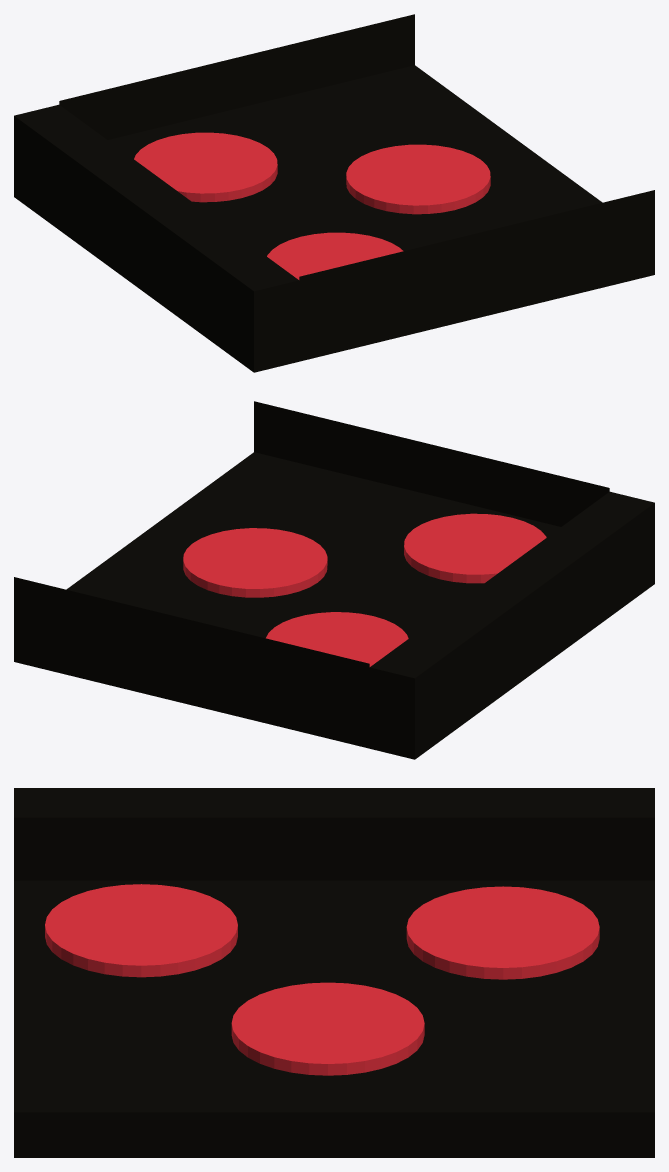
File: candle podium.fbx
3 renders of one model, top to bottom at view 1: azimuth 30°, elevation 25°; view 2: azimuth 150°, elevation 25°; view 3: azimuth 270°, elevation 25°, orthographic. The views are drawn at different scales.
Parts seen in each view (by area): view 1: Cube, Cylinder.001; view 2: Cube, Cylinder.001; view 3: Cube, Cylinder.001.
Part boxes in pixels (<box>): Cube: <box>14,14,654,372</box>; Cylinder.001: <box>134,132,490,279</box>; Cube: <box>14,401,654,759</box>; Cylinder.001: <box>183,513,546,666</box>; Cube: <box>14,788,654,1157</box>; Cylinder.001: <box>45,884,599,1075</box>.
Size of the model in its own units: 320 by 64.86 by 332.
